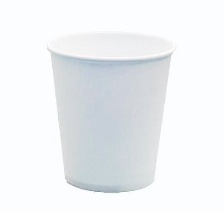paper_cup: (42, 27, 180, 196)
